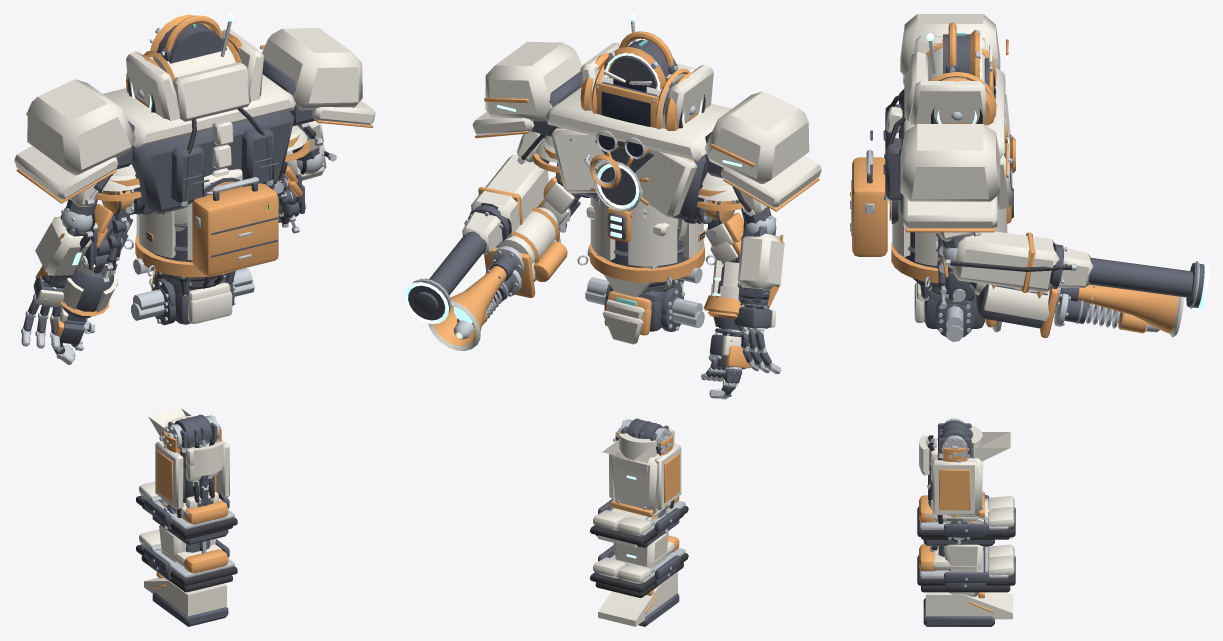
File: heroic_cast.glb
3 renders of one model, left to right at view 1: azimuth 30°, elevation 25°; view 2: azimuth 150°, elevation 25°; view 3: azimuth 270°, elevation 25°, orthographic. The views are drawn at different scales.
Parts seen in each view (by area): view 1: eclipse12_shoulders__shell, eclipse12_torso__shell, eclipse12_torso__dark, rosca12_hull__trim, rosca12_hull__shell, eclipse12_leg__shell, eclipse12_arm__shell, rosca12_hull__dark, eclipse12_shoulders__dark, rosca12_arm__dark, rosca12_leg__shell, rosca12_shoulders__dark (+33 smaller); view 2: eclipse12_shoulders__shell, eclipse12_torso__shell, eclipse12_arm__shell, rosca12_hull__shell, eclipse12_leg__shell, batida12_head__trim, rosca12_hull__trim, eclipse12_gun__dark, eclipse12_arm__dark, batida12_arm__shell, eclipse12_torso__dark, rosca12_arm__trim (+30 smaller); view 3: eclipse12_shoulders__shell, eclipse12_torso__shell, eclipse12_leg__shell, eclipse12_arm__shell, rosca12_hull__trim, eclipse12_gun__dark, batida12_gun__trim, rosca12_hull__shell, rosca12_leg__shell, rosca12_arm__shell, rosca12_hull__dark, eclipse12_torso__dark (+22 smaller).
Part boxes in pixels (left/top/right/bottom): eclipse12_shoulders__shell: left=14, top=28, right=375, bottom=206; eclipse12_torso__shell: left=103, top=29, right=296, bottom=176; eclipse12_torso__dark: left=131, top=110, right=294, bottom=275; rosca12_hull__trim: left=135, top=183, right=278, bottom=290; rosca12_hull__shell: left=136, top=169, right=242, bottom=323; eclipse12_leg__shell: left=144, top=440, right=229, bottom=616; eclipse12_arm__shell: left=35, top=142, right=326, bottom=307; rosca12_hull__dark: left=149, top=182, right=277, bottom=325; eclipse12_shoulders__dark: left=66, top=58, right=319, bottom=216; rosca12_arm__dark: left=51, top=218, right=281, bottom=354; rosca12_leg__shell: left=139, top=416, right=223, bottom=566; rosca12_shoulders__dark: left=84, top=162, right=304, bottom=270; eclipse12_shoulders__shell: left=472, top=41, right=821, bottom=214; eclipse12_torso__shell: left=545, top=43, right=731, bottom=297; eclipse12_arm__shell: left=471, top=154, right=784, bottom=327; rosca12_hull__shell: left=590, top=188, right=703, bottom=344; eclipse12_leg__shell: left=598, top=449, right=677, bottom=626; batida12_head__trim: left=580, top=31, right=706, bottom=130; rosca12_hull__trim: left=589, top=139, right=707, bottom=335; eclipse12_gun__dark: left=408, top=231, right=486, bottom=320; eclipse12_arm__dark: left=469, top=205, right=776, bottom=365; batida12_arm__shell: left=495, top=207, right=741, bottom=355; eclipse12_torso__dark: left=553, top=126, right=707, bottom=284; rosca12_arm__trim: left=484, top=241, right=750, bottom=368; eclipse12_shoulders__shell: left=900, top=14, right=1000, bottom=241; eclipse12_torso__shell: left=886, top=36, right=1012, bottom=227; eclipse12_leg__shell: left=925, top=457, right=1012, bottom=619; eclipse12_arm__shell: left=952, top=231, right=1059, bottom=292; rosca12_hull__trim: left=852, top=136, right=1015, bottom=327; eclipse12_gun__dark: left=1088, top=258, right=1204, bottom=307; batida12_gun__trim: left=1077, top=284, right=1178, bottom=333; rosca12_hull__shell: left=892, top=200, right=1007, bottom=332; rosca12_leg__shell: left=919, top=425, right=1014, bottom=575; rosca12_arm__shell: left=984, top=284, right=1049, bottom=320; rosca12_hull__dark: left=850, top=174, right=1013, bottom=337; eclipse12_torso__dark: left=870, top=89, right=1005, bottom=214.
Size of the model in its own units: 1.64 by 2.95 by 1.61.
